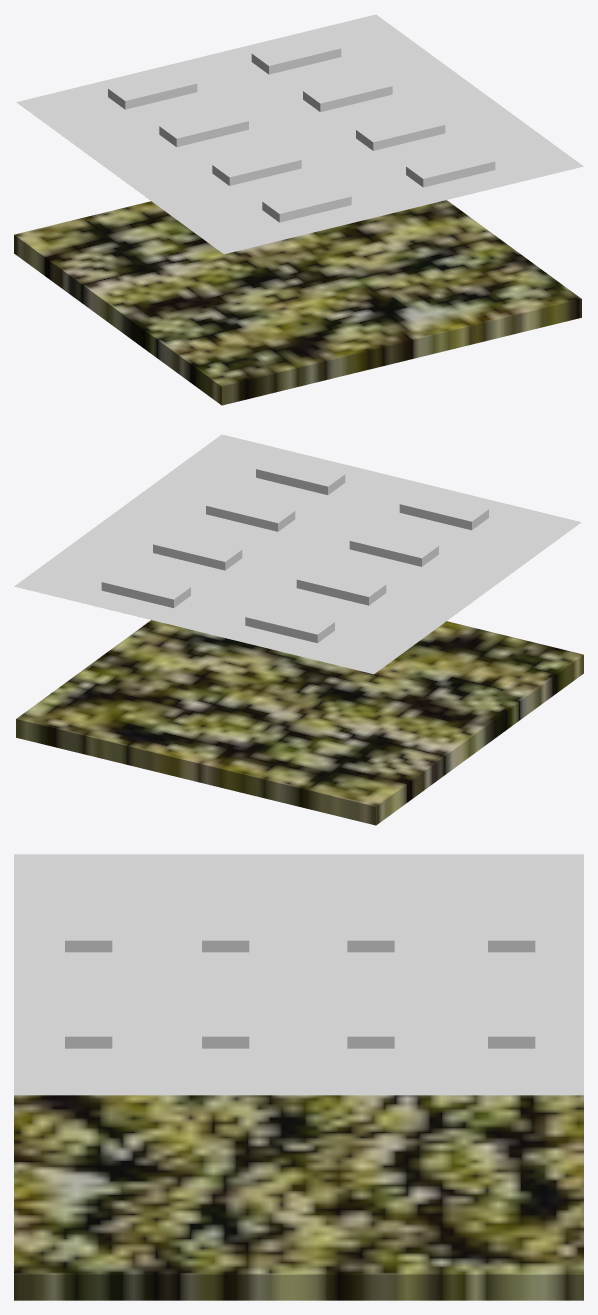
The model's file is BackroomsLevelZero - 10.fbx.
The picture shows the model from 3 angles, top to bottom: view 1: azimuth 30°, elevation 25°; view 2: azimuth 150°, elevation 25°; view 3: azimuth 270°, elevation 25°; orthographic projection. The views are drawn at different scales.
Parts seen in each view (by area): view 1: Floor.002, Floor.030, Cube.092, Cube.091, Cube.093, Cube.094, Cube.097, Cube.098, Cube.096, Cube.095; view 2: Floor.002, Floor.030, Cube.093, Cube.092, Cube.095, Cube.097, Cube.091, Cube.096, Cube.098, Cube.094; view 3: Floor.002, Floor.030, Cube.093, Cube.092, Cube.095, Cube.096, Cube.098, Cube.091, Cube.094, Cube.097.
Part boxes in pixels (x1,y1,x2,y2): Floor.002: (14, 200, 581, 405); Floor.030: (16, 14, 583, 254); Cube.092: (251, 36, 341, 74); Cube.091: (108, 71, 197, 109); Cube.093: (159, 108, 248, 147); Cube.094: (212, 147, 301, 185); Cube.097: (262, 184, 351, 222); Cube.098: (406, 149, 495, 187); Cube.096: (356, 112, 445, 150); Cube.095: (303, 73, 392, 111); Floor.002: (16, 620, 583, 825); Floor.030: (14, 434, 581, 674); Cube.093: (296, 567, 386, 605); Cube.092: (101, 569, 190, 608); Cube.095: (153, 532, 242, 570); Cube.097: (399, 491, 488, 530); Cube.091: (245, 604, 334, 643); Cube.096: (206, 493, 295, 531); Cube.098: (256, 456, 345, 494); Cube.094: (349, 528, 438, 566); Floor.002: (14, 1095, 583, 1300); Floor.030: (14, 854, 583, 1095); Cube.093: (347, 892, 394, 952); Cube.092: (488, 988, 535, 1048); Cube.095: (347, 988, 394, 1048); Cube.096: (202, 988, 249, 1048); Cube.098: (65, 988, 112, 1048); Cube.091: (488, 892, 535, 952); Cube.094: (202, 892, 249, 952); Cube.097: (65, 892, 112, 952).
Size of the model in its own units: 2012 by 846 by 2000.
